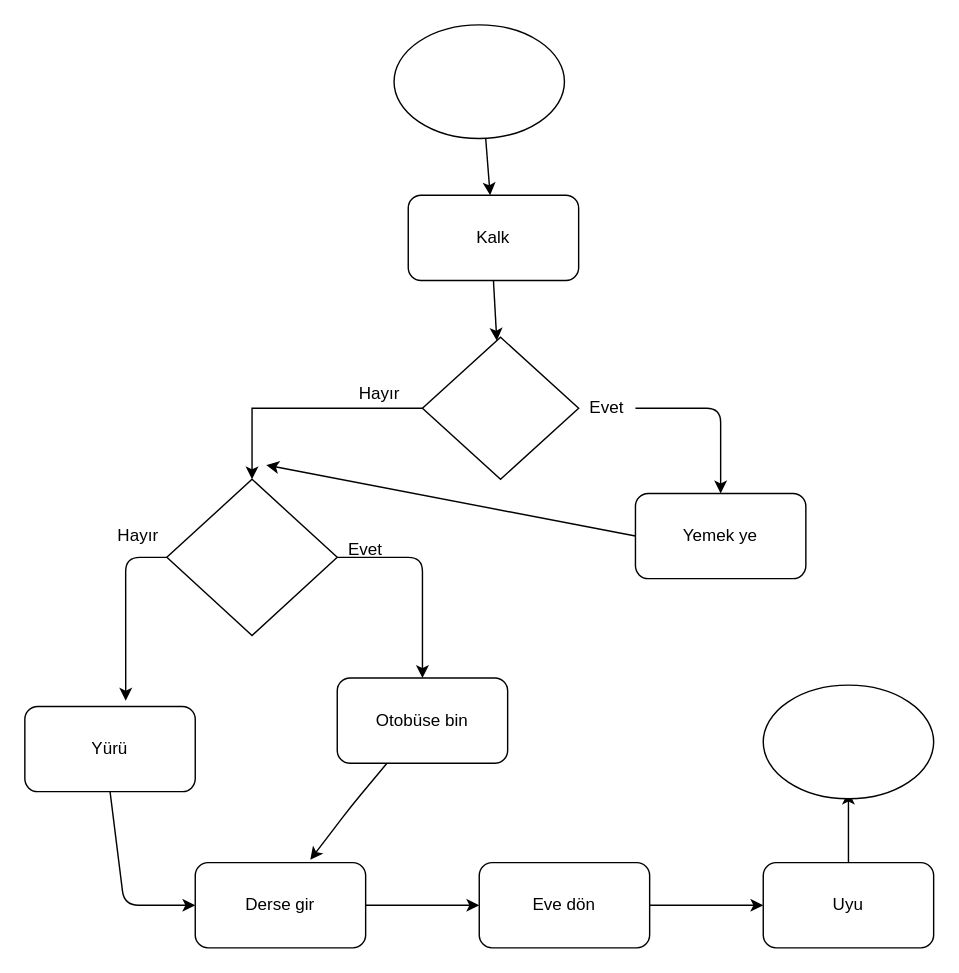
Some shapes in this 959 by 973 pixel diagram are drawn without their labels. Each missing label, with the centre of its shape:
Aç mısın: the point at 500,407
Başla: the point at 478,80
Okula otobüs ile mi gideceksin?: the point at 251,556
